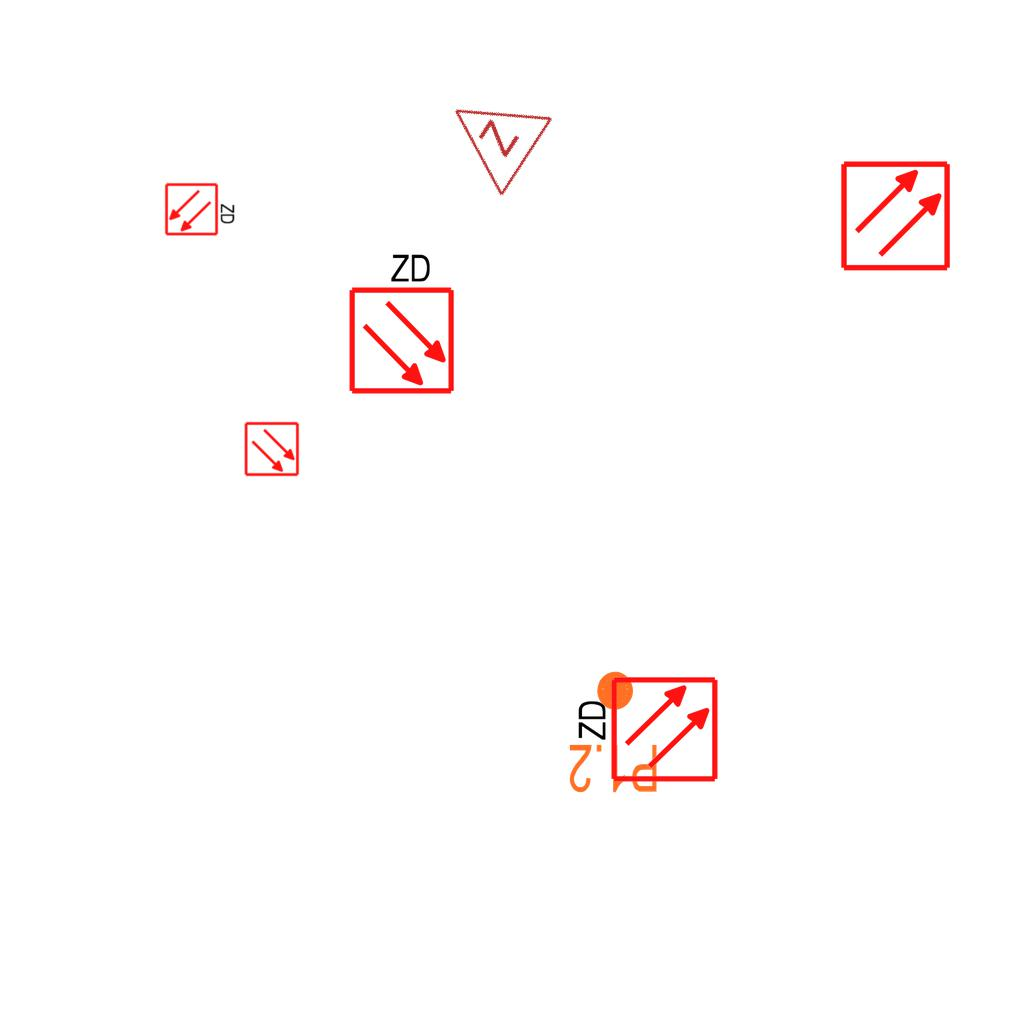Downlight_LED_Einbauleuchten_Flur: (567, 668, 660, 796)
RMO_Rauchmelder_optischer: (839, 159, 952, 272), (244, 421, 300, 477)
ZD_Melder_in_Zwischendecke_mit_Revisionsoeffnung_mind_40_x_40_cm: (343, 247, 457, 396), (571, 674, 720, 788), (164, 180, 238, 237)
Zimmersignalleuchte: (422, 66, 560, 204)
